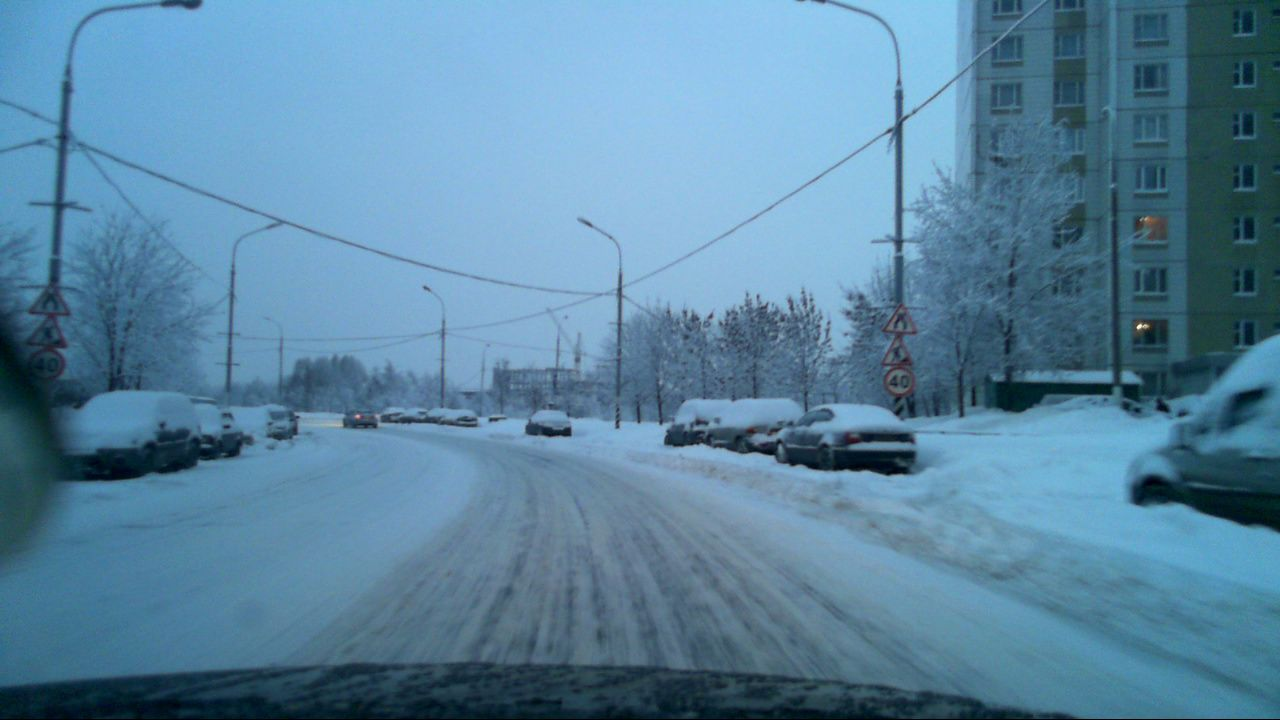speed_warning_40: (882, 363, 918, 397)
